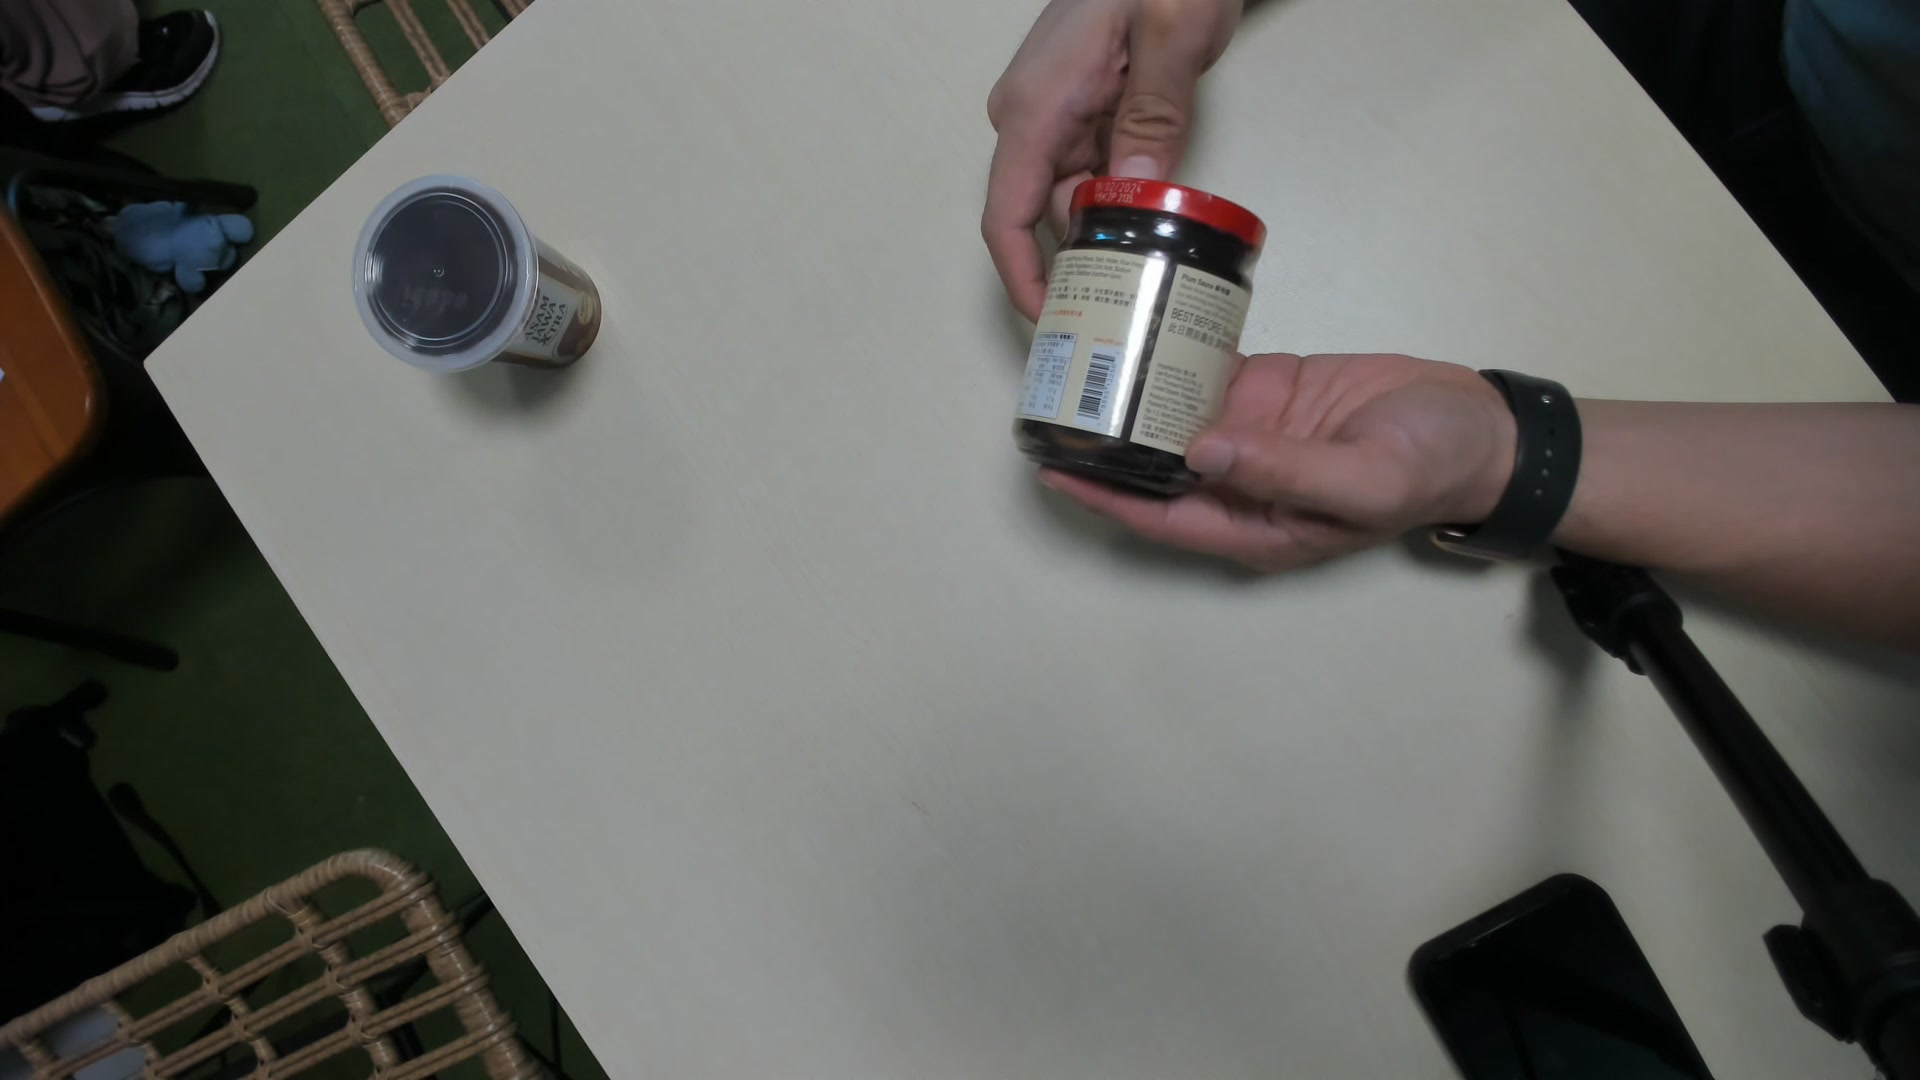OtherSauceDressing_200-299g_Halal_NonHealthy: (1015, 179, 1267, 505)
